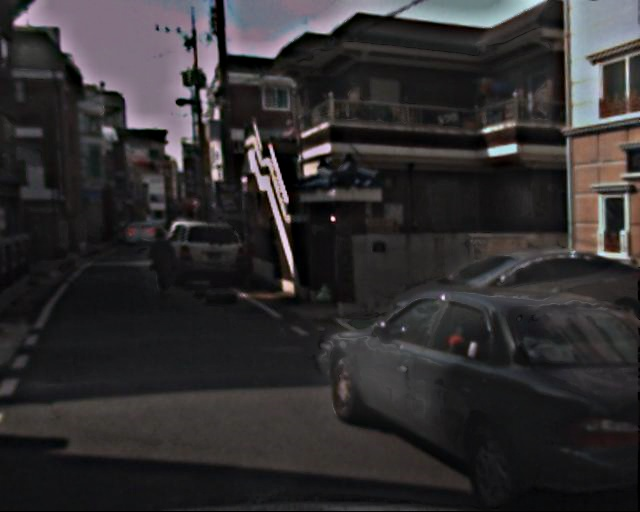person: (145, 228, 174, 299)
